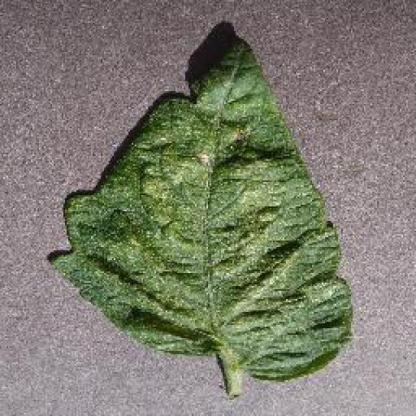Tomato_Spider_Mites: (49, 44, 353, 372)
